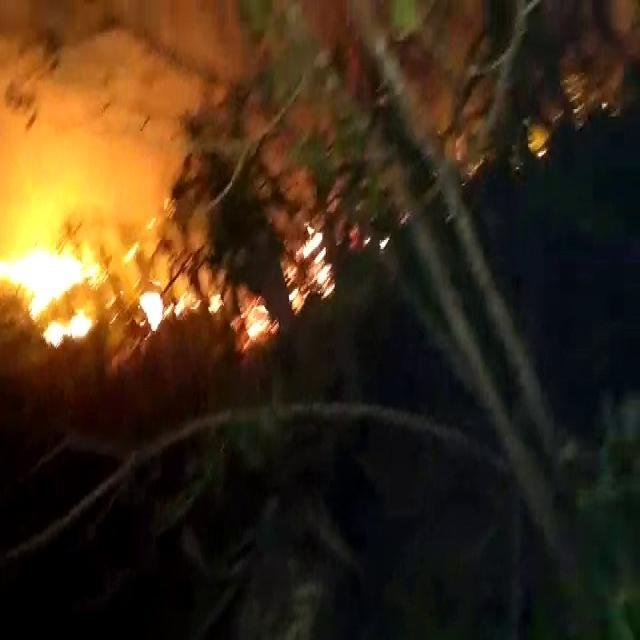Fire: (0, 247, 95, 342), (285, 226, 334, 306), (240, 296, 276, 344), (136, 282, 163, 331)
